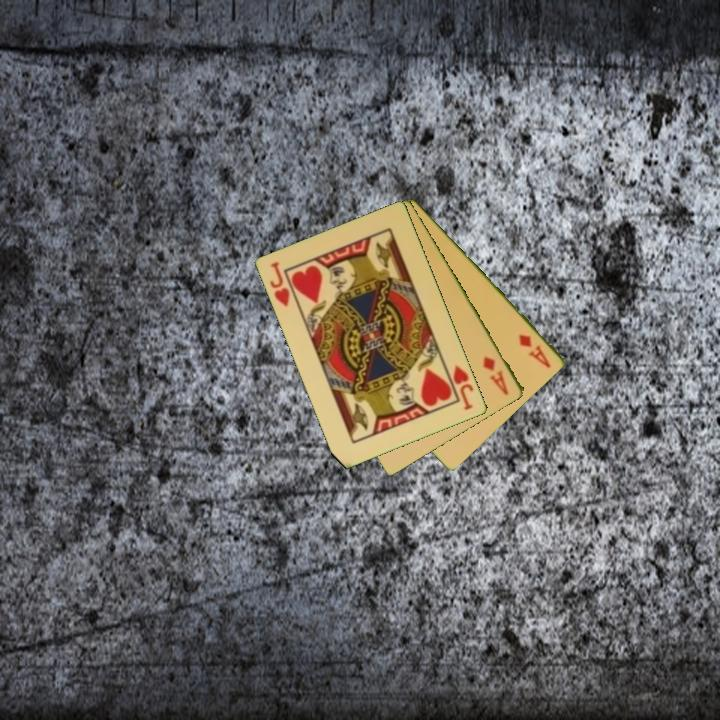Ad: (516, 331, 554, 371), (480, 353, 512, 398)
Jh: (450, 361, 477, 413), (267, 258, 293, 310)
